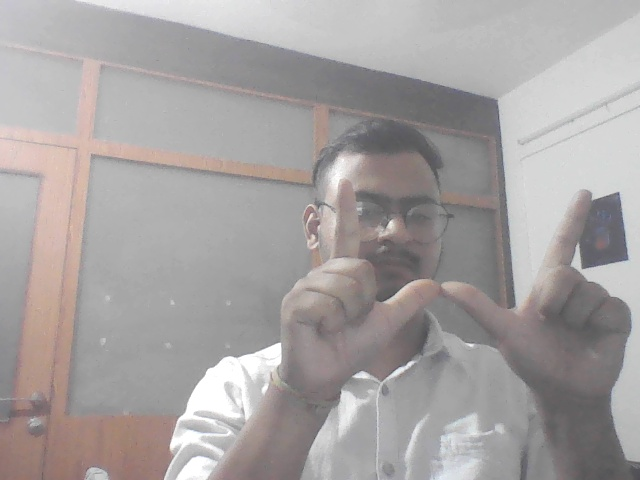Whatever: (271, 175, 640, 419)
